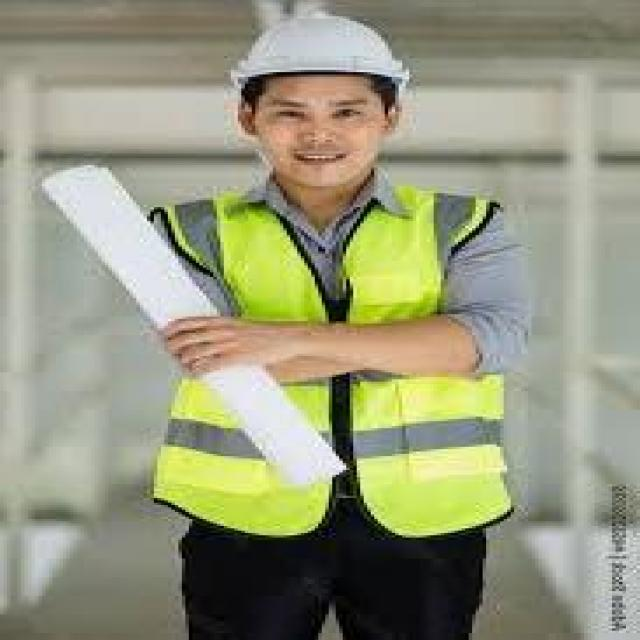Reflective-Jacket: (136, 181, 524, 540)
Safety-Helmet: (213, 7, 437, 109)
